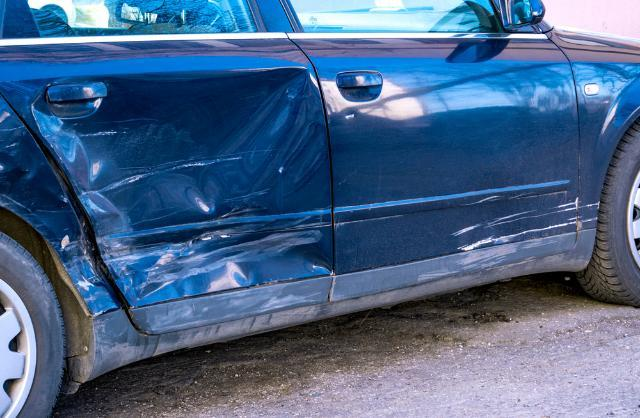dent: (33, 67, 332, 308), (0, 93, 118, 317), (342, 109, 357, 121)
rub: (446, 189, 600, 279)
